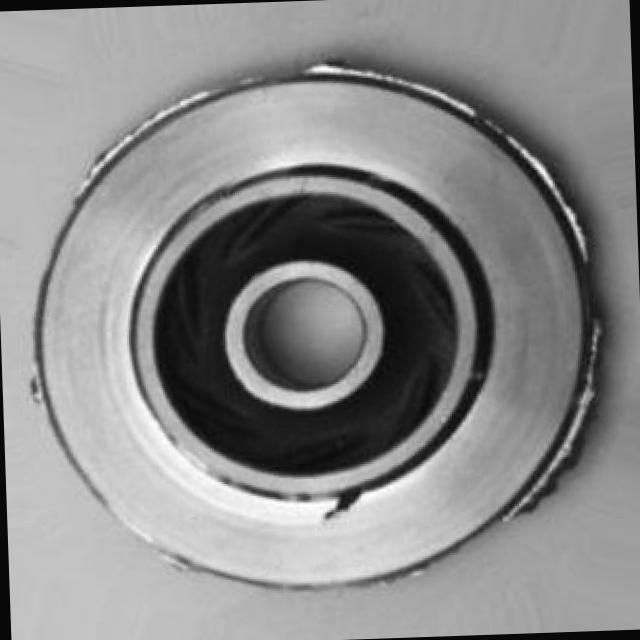Defect: (312, 478, 374, 522)
